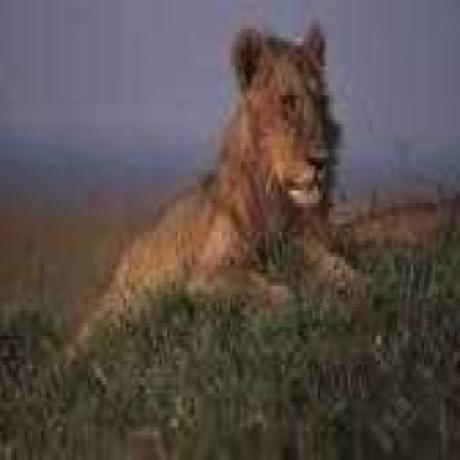Lion: (55, 20, 352, 342)
